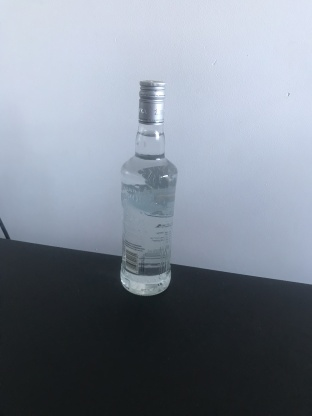nakretka: (137, 78, 166, 126)
